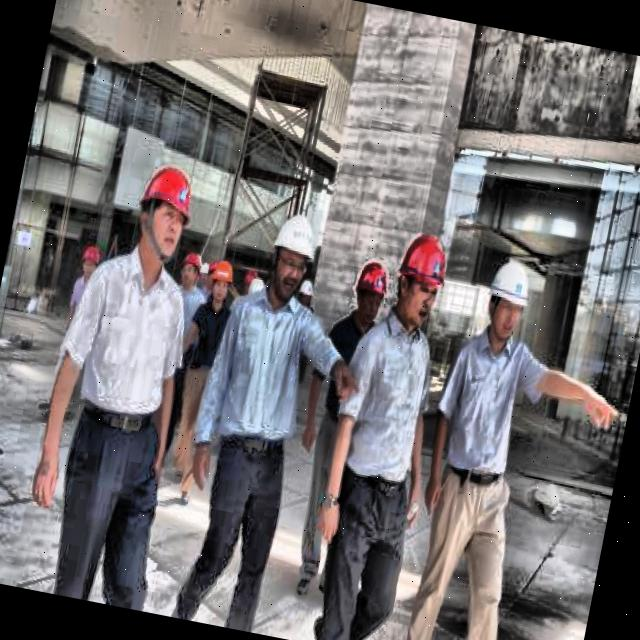helmet: (125, 159, 203, 269), (386, 228, 454, 336), (260, 208, 326, 301), (478, 254, 538, 350), (346, 256, 394, 326), (206, 252, 240, 313), (178, 244, 206, 294), (76, 240, 104, 284)
